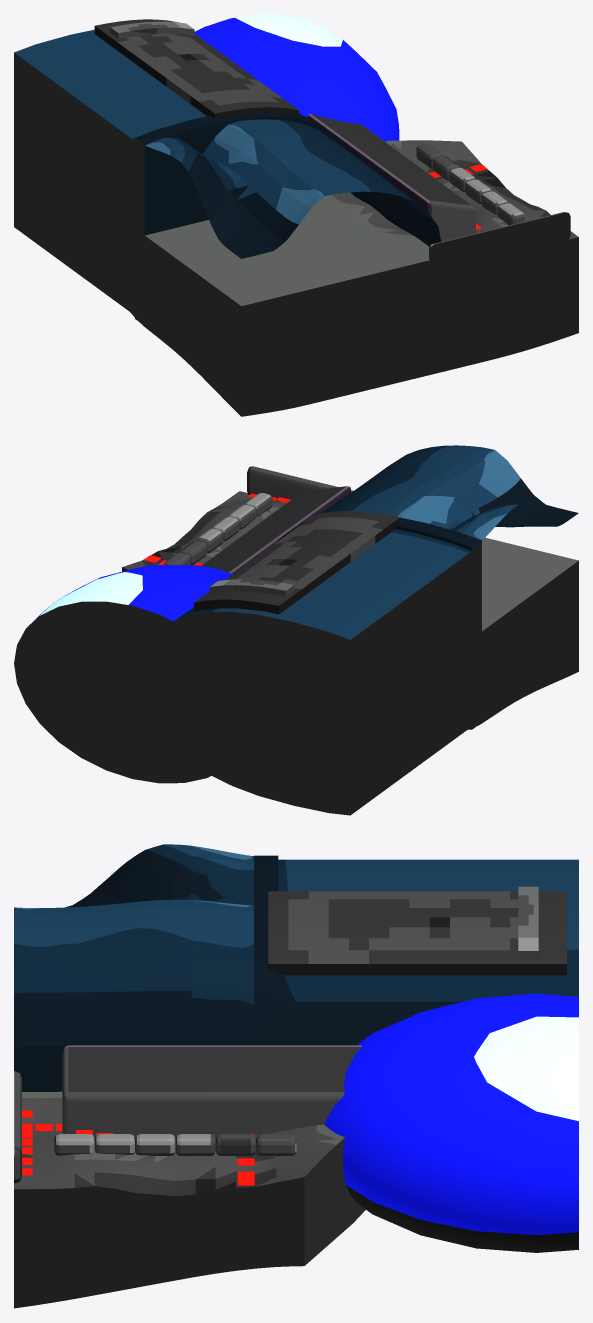
File: camanis_boss_93.glb
The picture shows the model from 3 angles, top to bottom: view 1: azimuth 30°, elevation 25°; view 2: azimuth 150°, elevation 25°; view 3: azimuth 270°, elevation 25°; orthographic projection. The views are drawn at different scales.
Parts seen in each view (by area): view 1: camanis_boss_93; view 2: camanis_boss_93; view 3: camanis_boss_93.
Part boxes in pixels (bbox=[...]): camanis_boss_93: bbox=[14, 14, 578, 416]; camanis_boss_93: bbox=[14, 445, 578, 815]; camanis_boss_93: bbox=[14, 844, 578, 1308].
Bounding box in the file's own units: 24 × 14.92 × 28.
